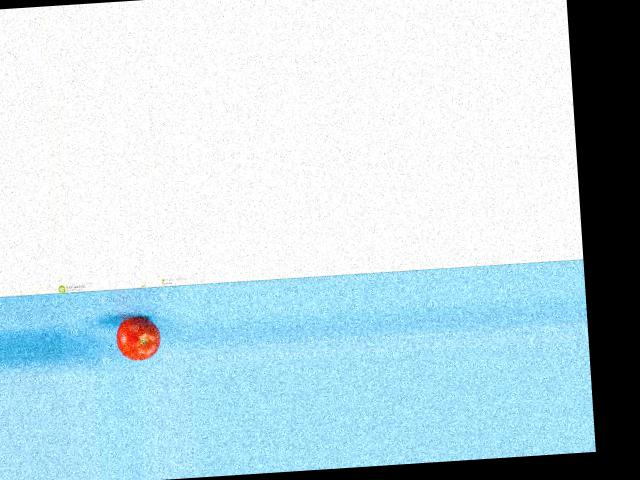tomato: (115, 316, 162, 361)
